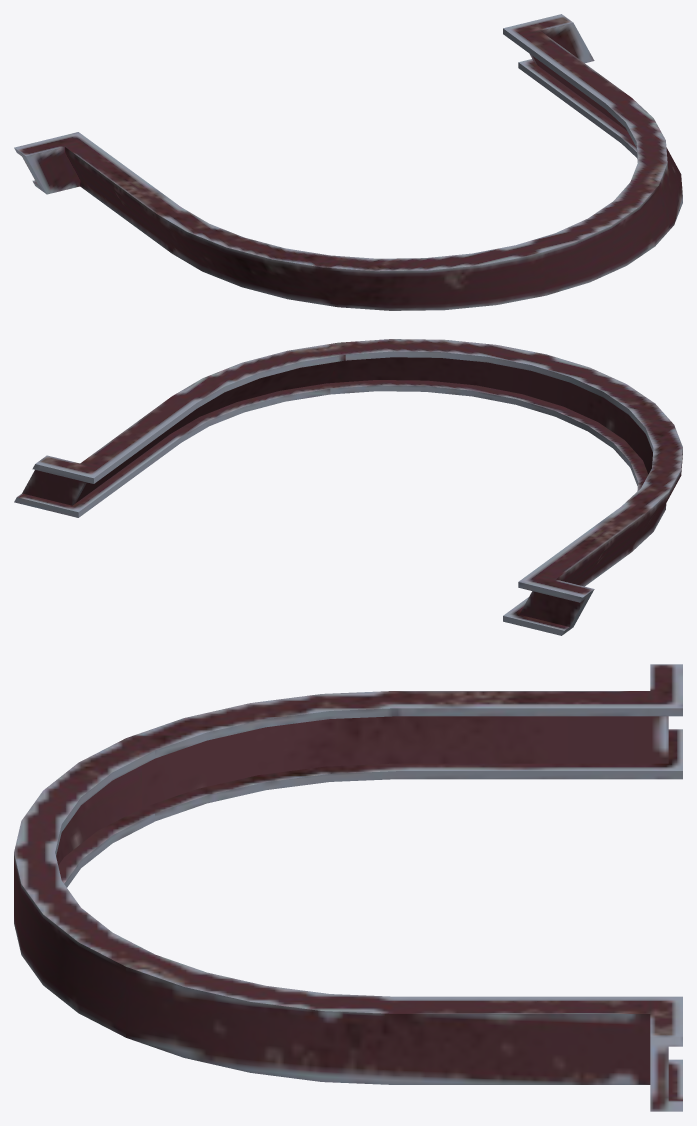
The model's file is beam_vert_lean_R.fbx.
3 renders of one model, top to bottom at view 1: azimuth 30°, elevation 25°; view 2: azimuth 150°, elevation 25°; view 3: azimuth 270°, elevation 25°, orthographic. The views are drawn at different scales.
Parts seen in each view (by area): view 1: beam_hor_02.001; view 2: beam_hor_02.001; view 3: beam_hor_02.001.
Boxes of the visible parts, <box> form: beam_hor_02.001: <box>14,14,682,310</box>; beam_hor_02.001: <box>14,339,682,635</box>; beam_hor_02.001: <box>14,664,682,1111</box>.
Bounding box in the file's own units: 2855 × 209 × 2088.
